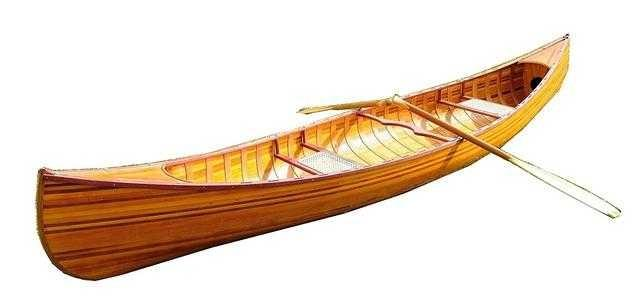kayak: (33, 32, 583, 286)
